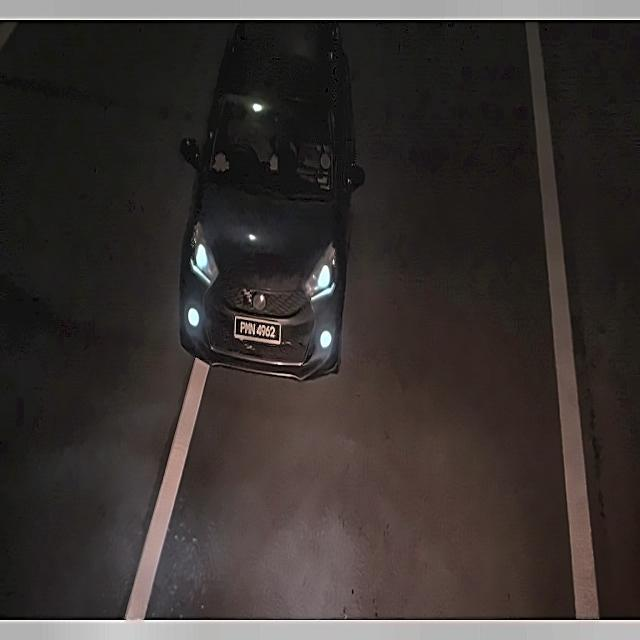car: (231, 314, 283, 349)
